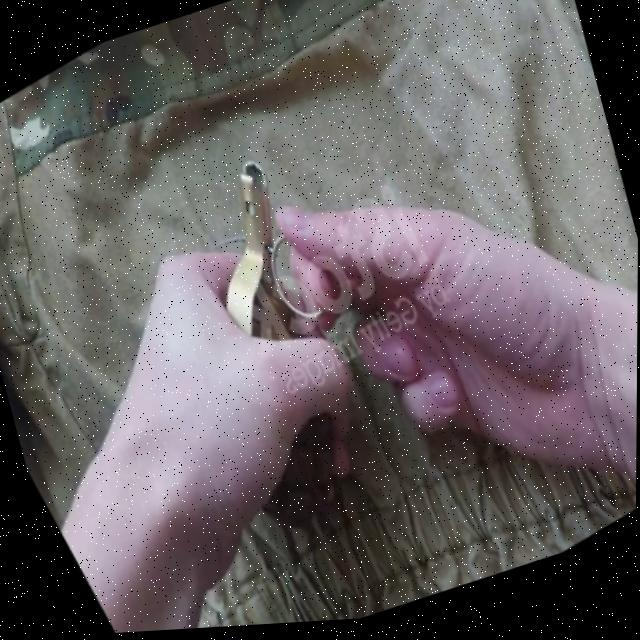grenade: (108, 133, 425, 568)
